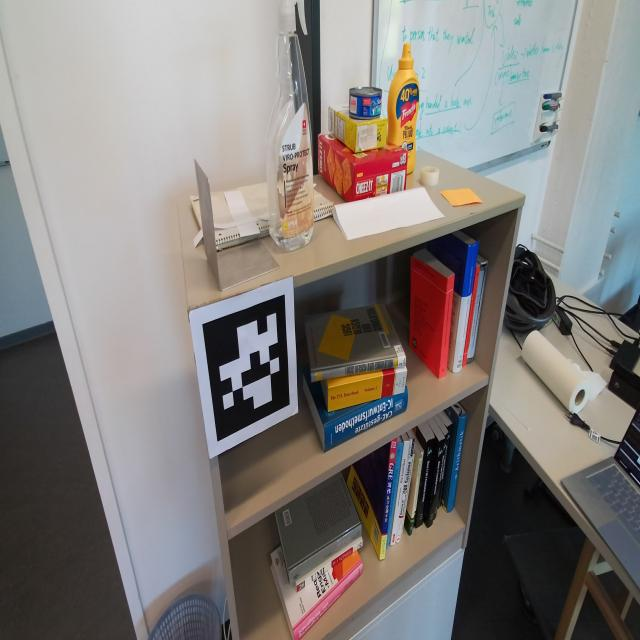Book Spine: (324, 387, 408, 452), (293, 562, 363, 640), (288, 523, 362, 586), (452, 241, 480, 373), (297, 540, 363, 593), (328, 370, 407, 412), (311, 356, 406, 382), (379, 437, 398, 560), (446, 413, 467, 513), (390, 441, 410, 545), (386, 440, 404, 550), (396, 439, 415, 543), (462, 266, 480, 367), (416, 438, 435, 528), (439, 274, 455, 379), (467, 266, 484, 363), (471, 264, 487, 362), (428, 438, 445, 528), (437, 424, 453, 509), (433, 432, 448, 520), (401, 453, 415, 534), (409, 457, 422, 536), (413, 451, 424, 529)
